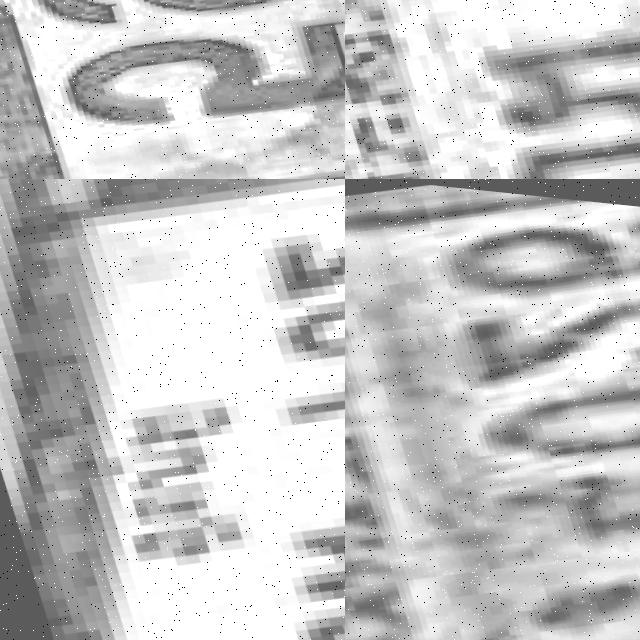license-plate: (345, 179, 640, 640), (86, 179, 345, 640), (0, 0, 345, 179), (345, 0, 640, 179)
